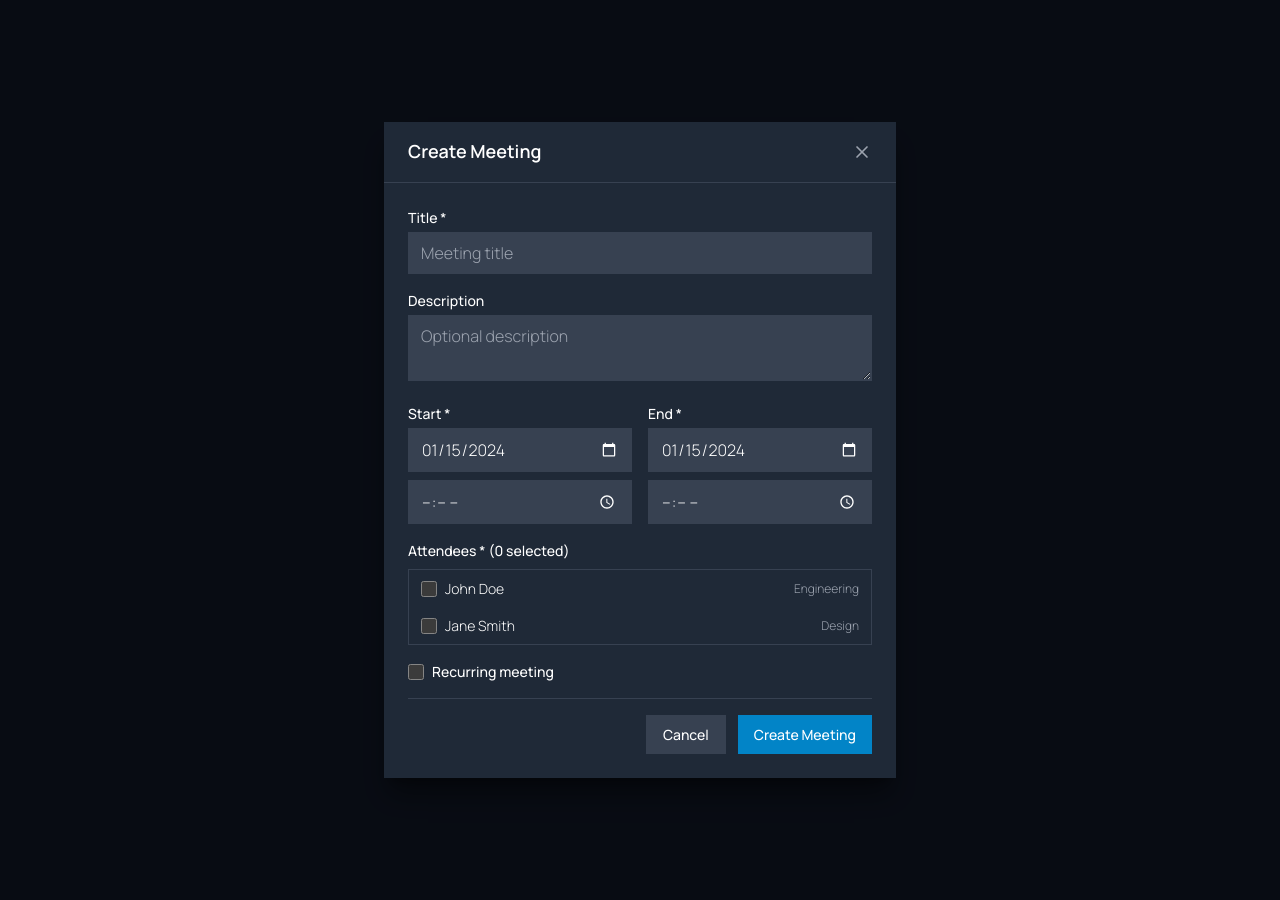
CreateMeetingModal › recurring meeting › shows recurrence options when recurring is checked
Click the text "Recurring meeting".
click(481, 672)  # box [408,662,554,681]
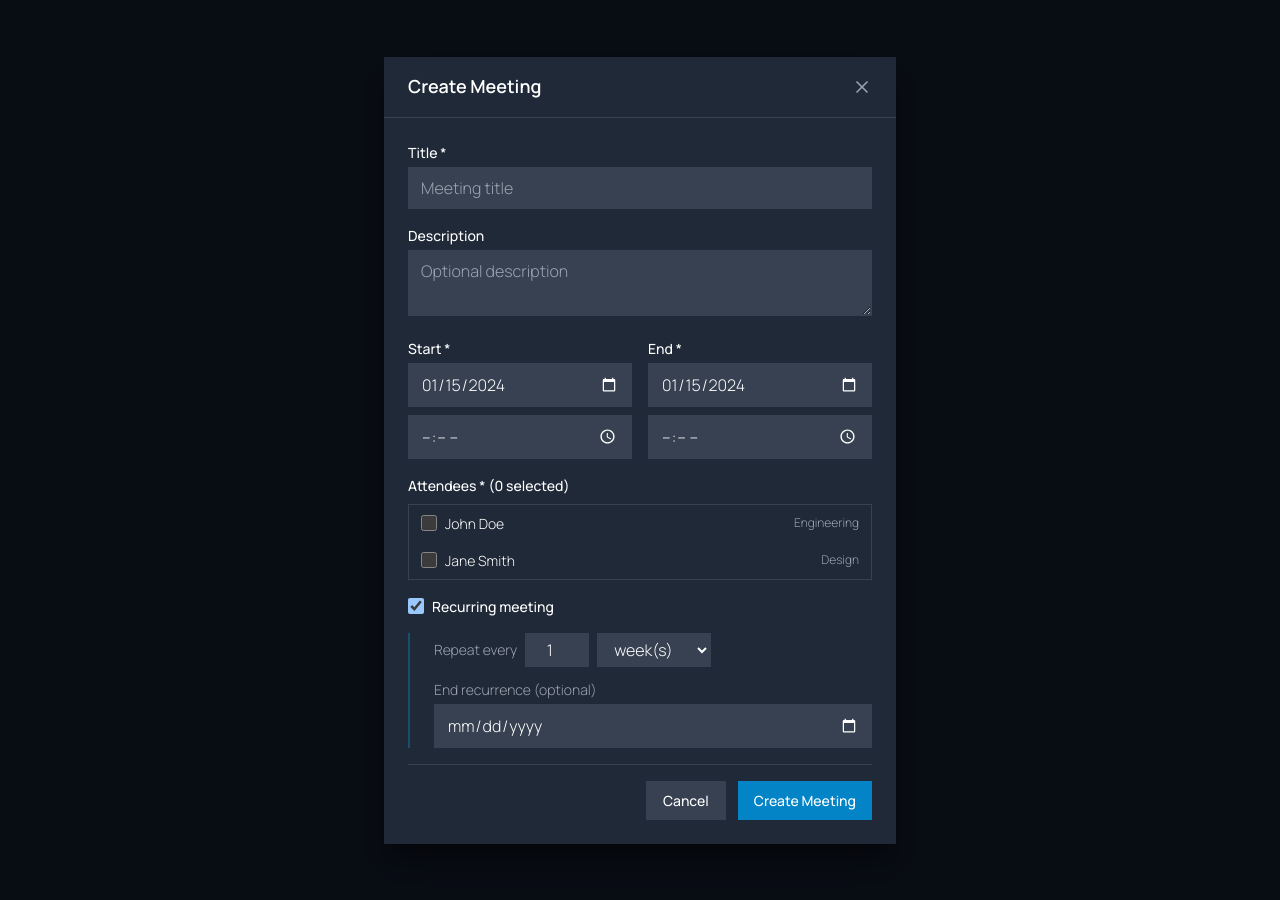
Result: the text "Repeat every" is shown at [434,639,517,660]
